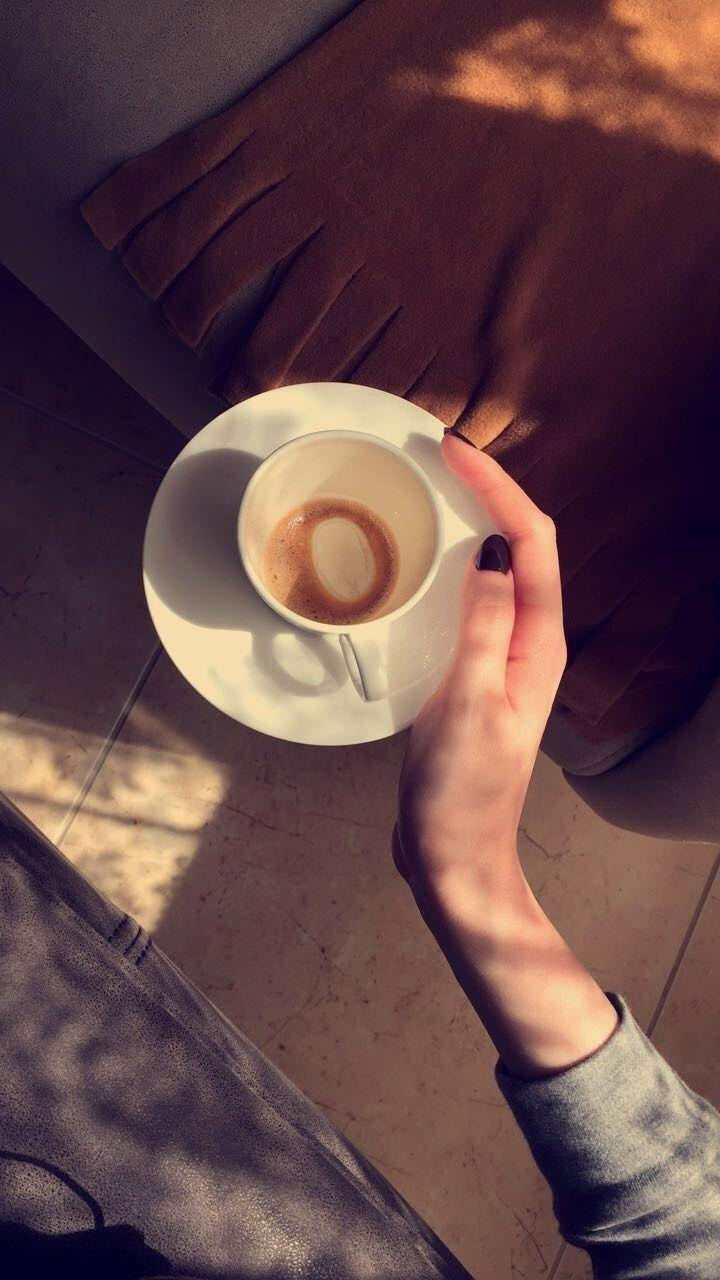cup-handle: (236, 421, 449, 710)
